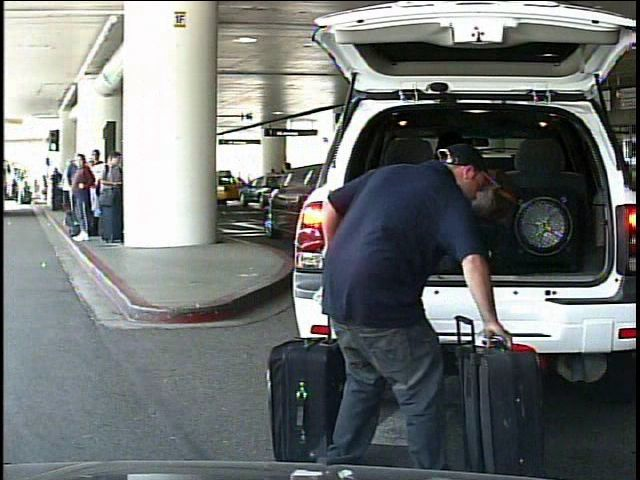person: (308, 108, 530, 480), (18, 176, 29, 207)
